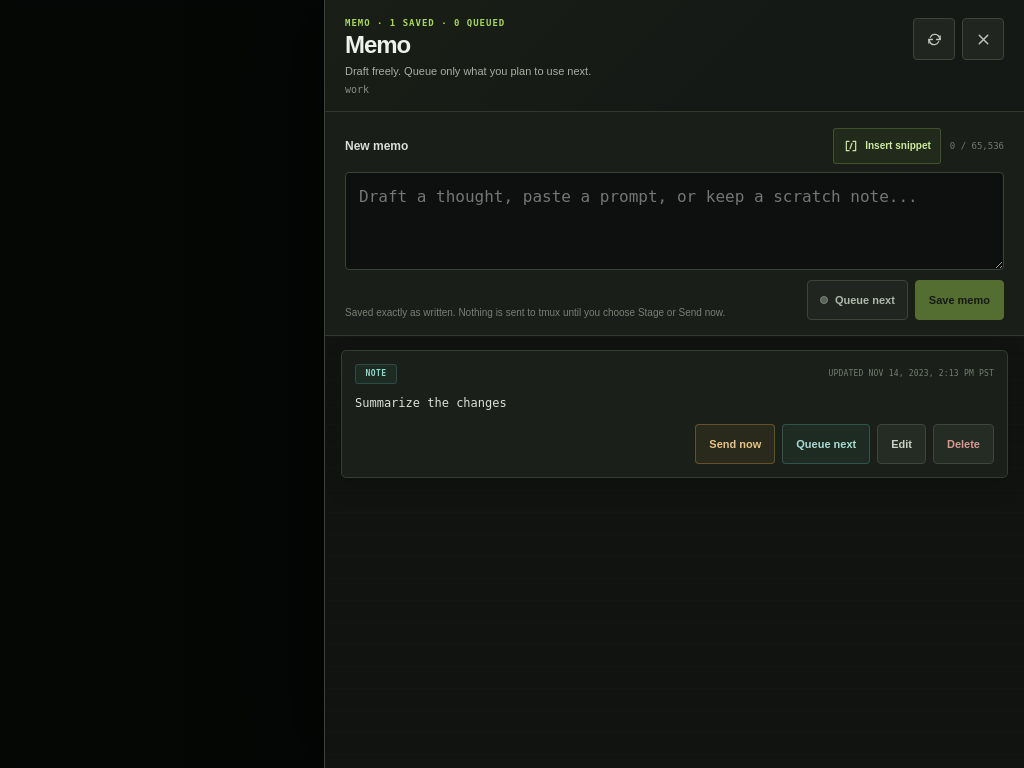
Test: MessageQueueDialog › removes a note after terminal delivery is acknowledged without reclassifying it
The image size is (1024, 768).
Expected: the text "Summarize the changes" is shown, 355,396 -> 507,410
Step 1. Click the button "Send now" → (735, 444), box 695,424 -> 775,464
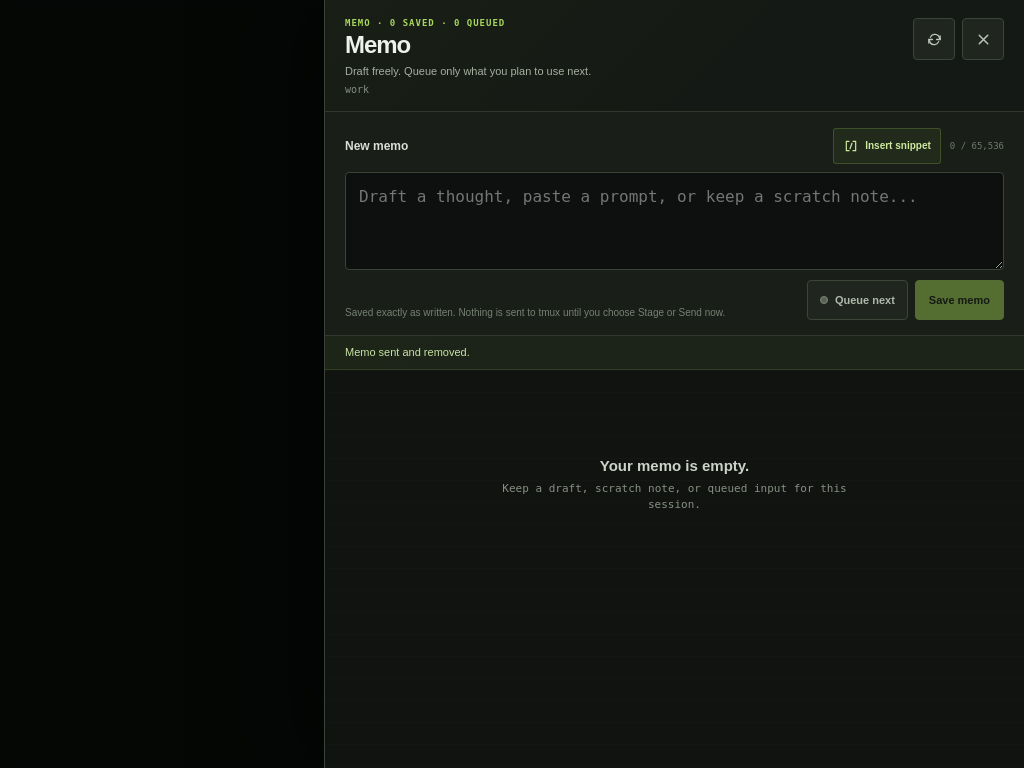
Result: the text "Summarize the changes" is gone
